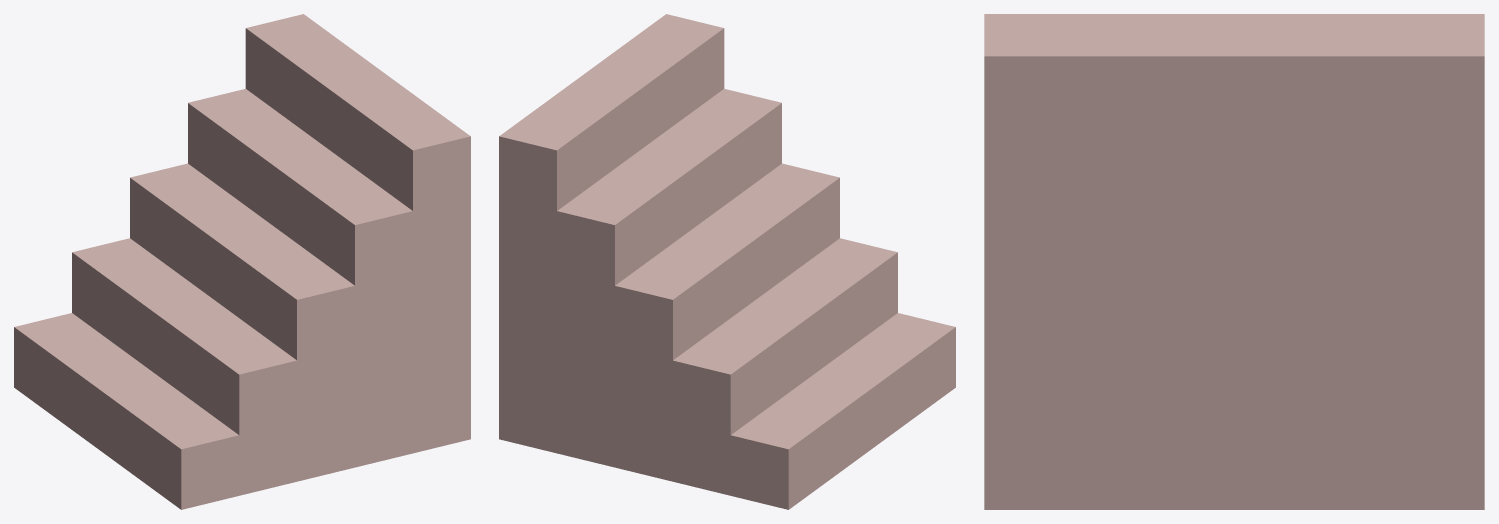
Rendered from Stairs.glb.
3 views of the same model, side by side, from view 1: azimuth 30°, elevation 25°; view 2: azimuth 150°, elevation 25°; view 3: azimuth 270°, elevation 25° (orthographic). The views are drawn at different scales.
Visible parts, largest first — view 1: block (×5); view 2: block (×5); view 3: block.
Part boxes in pixels (bbox=[...]): block (×5): bbox=[14, 14, 470, 509]; block (×5): bbox=[499, 14, 955, 509]; block: bbox=[984, 14, 1484, 509].
Size of the model in its own units: 1 by 1 by 1.
